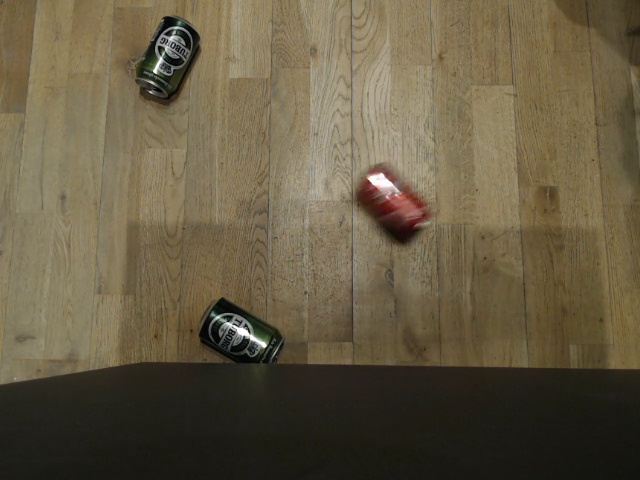beer: (193, 294, 286, 368), (133, 14, 204, 102)
cola: (352, 160, 432, 248)
